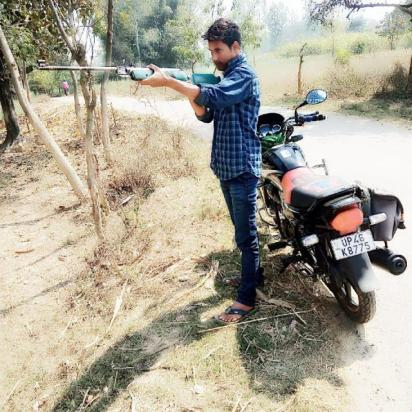Gun: (35, 58, 230, 96)
